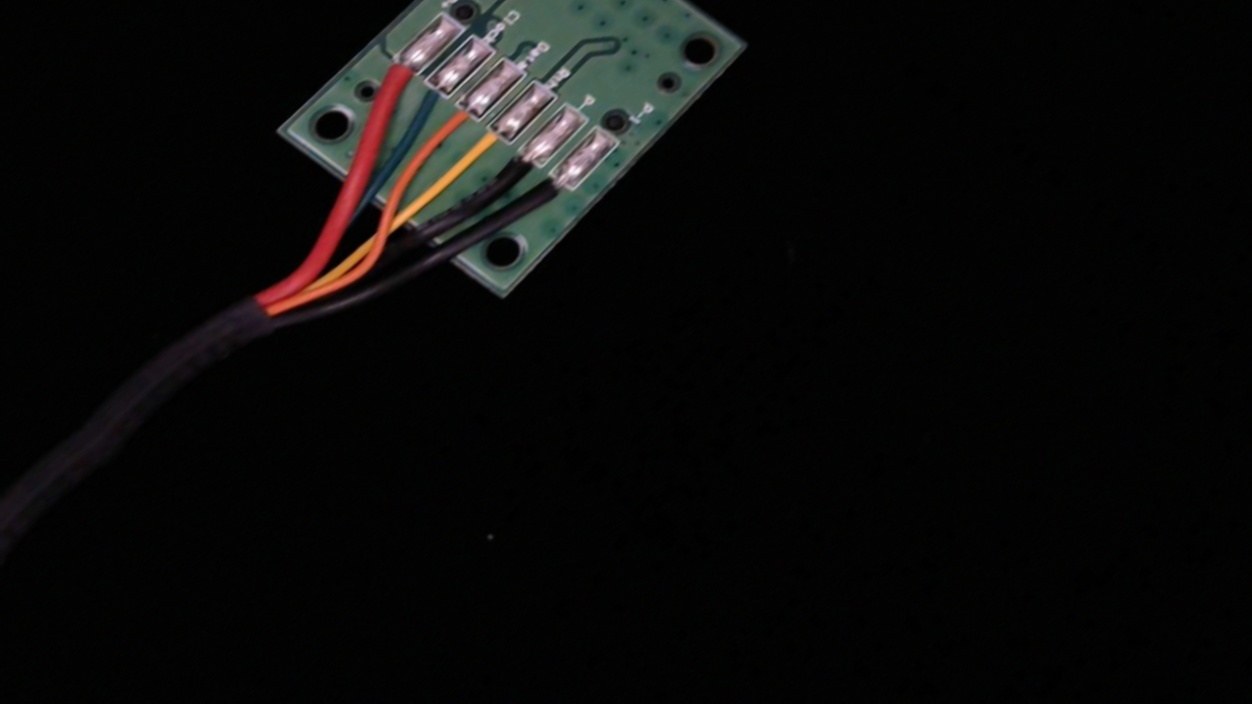Black: (472, 136, 554, 207)
Black1: (506, 160, 590, 231)
Green: (384, 66, 464, 132)
Orange: (420, 90, 494, 152)
Red: (354, 45, 432, 108)
Yellow: (445, 112, 525, 180)
